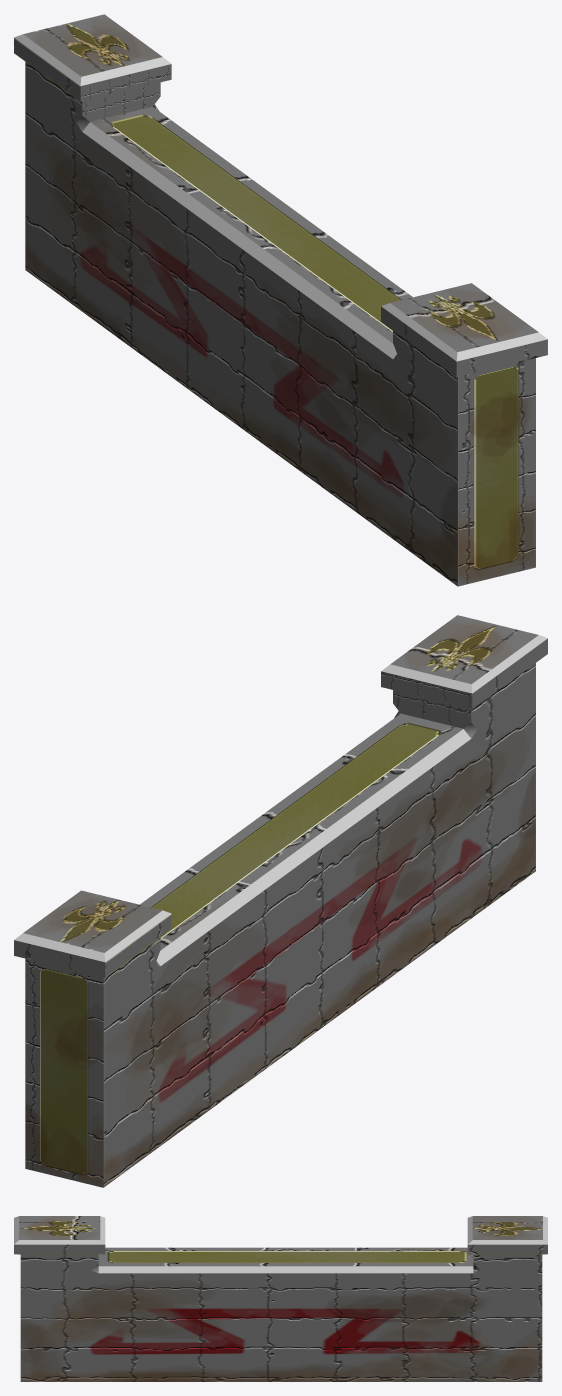
File: fence.obj
The picture shows the model from 3 angles, top to bottom: view 1: azimuth 30°, elevation 25°; view 2: azimuth 150°, elevation 25°; view 3: azimuth 270°, elevation 25°; orthographic projection. The views are drawn at different scales.
Visible parts, largest first — view 1: fence_1; view 2: fence_1; view 3: fence_1.
Part boxes in pixels (x1,y1,x2,y2): fence_1: (14,14,547,586); fence_1: (14,615,547,1187); fence_1: (14,1216,547,1381).
Size of the model in its own units: 3.24 by 8 by 27.24.
